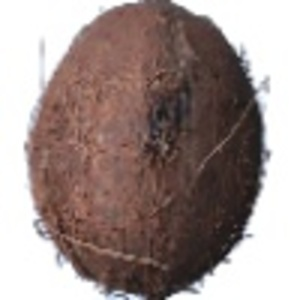coco: (26, 1, 271, 300)
